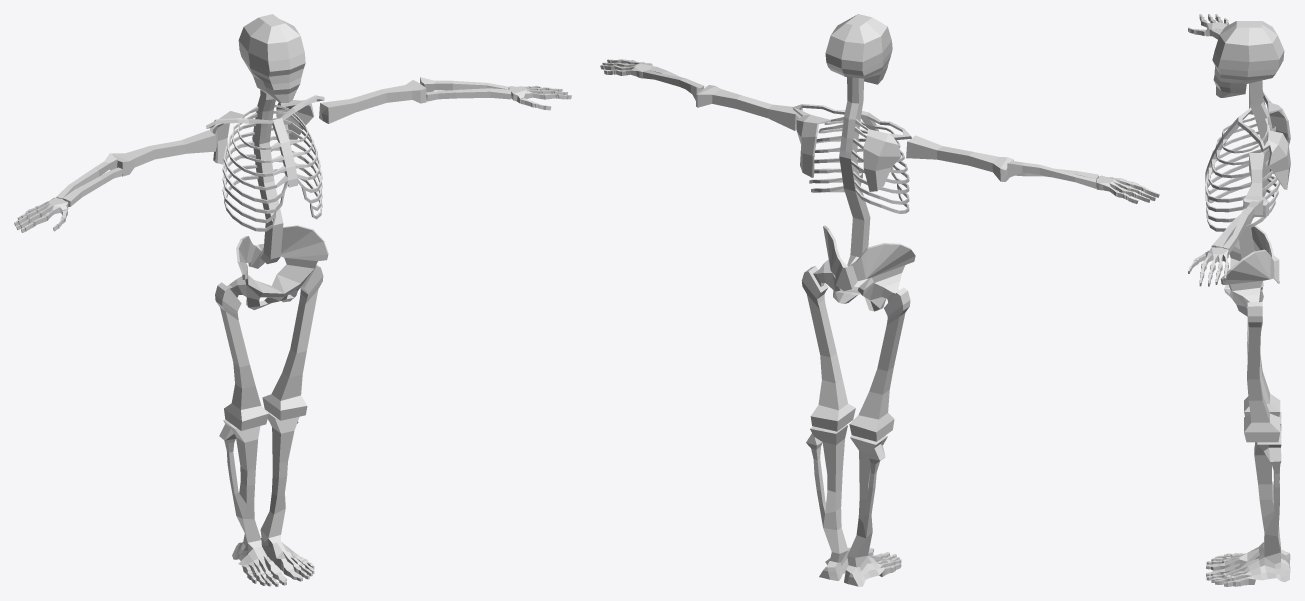
The model's file is EsqueletoTpose.fbx.
The picture shows the model from 3 angles, left to right: view 1: azimuth 30°, elevation 25°; view 2: azimuth 150°, elevation 25°; view 3: azimuth 270°, elevation 25°; orthographic projection.
Parts seen in each view (by area): view 1: Esqueleto; view 2: Esqueleto; view 3: Esqueleto.
Boxes of the visible parts, x1,y1,x2,y2 form: Esqueleto: [14, 14, 571, 586]; Esqueleto: [600, 14, 1159, 586]; Esqueleto: [1188, 14, 1290, 586].
Bounding box in the file's own units: 4.31 × 4.09 × 0.6952.
